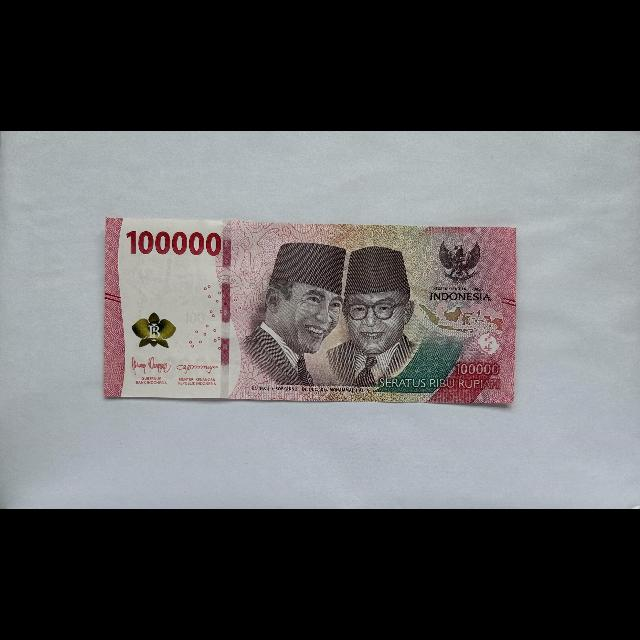Asli-100k: (102, 215, 518, 410)
Tinta-Asli-100k: (131, 312, 177, 350)
